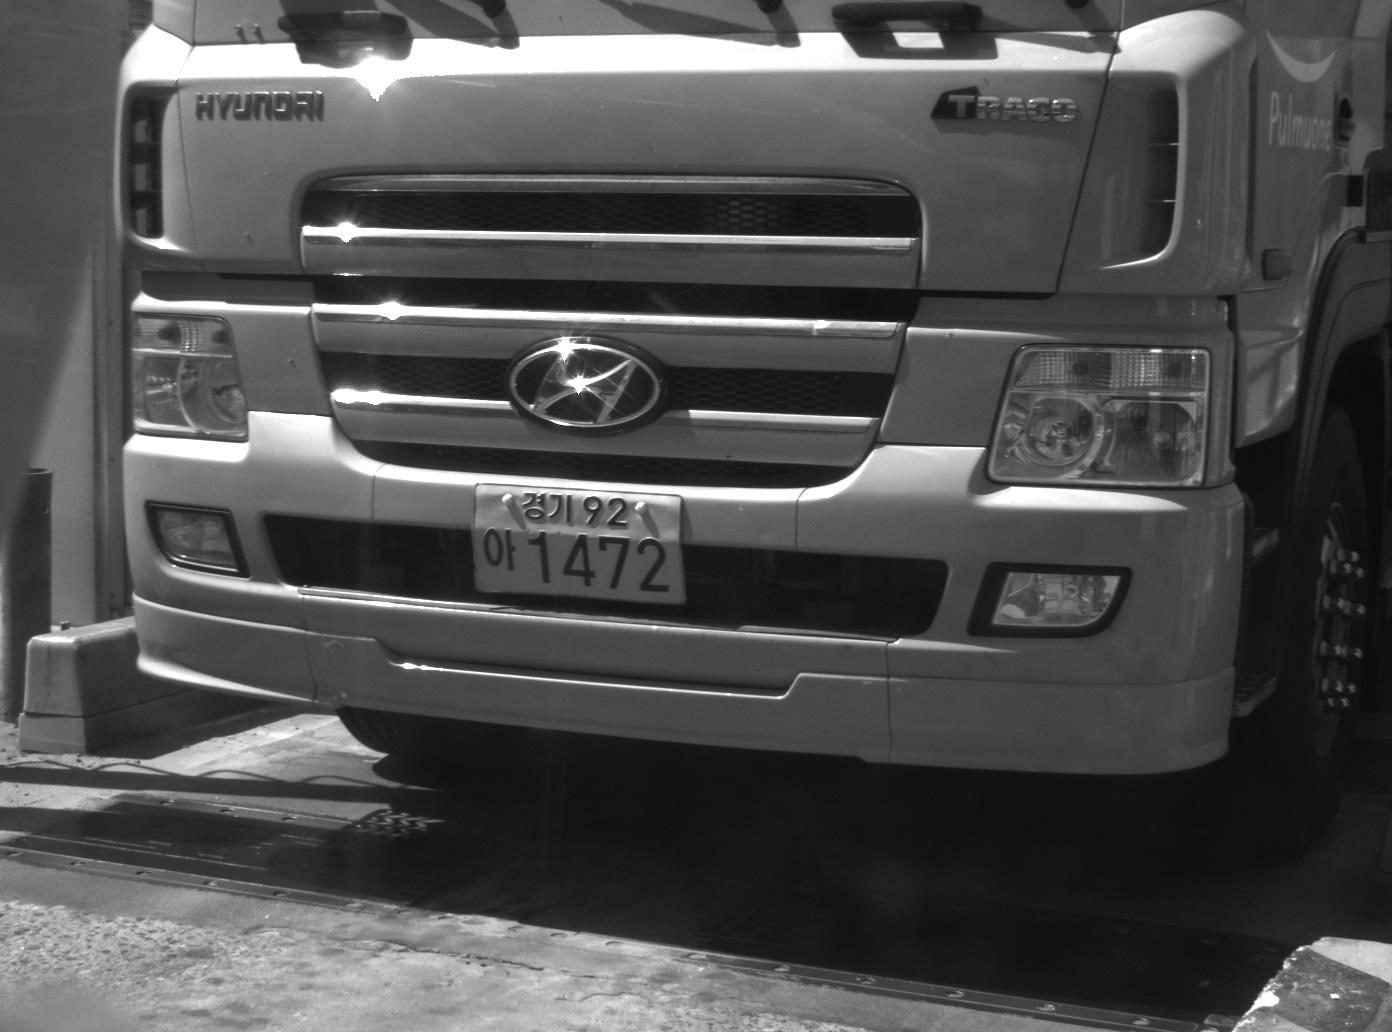car: (110, 1, 1392, 853)
plate: (470, 482, 686, 606)
